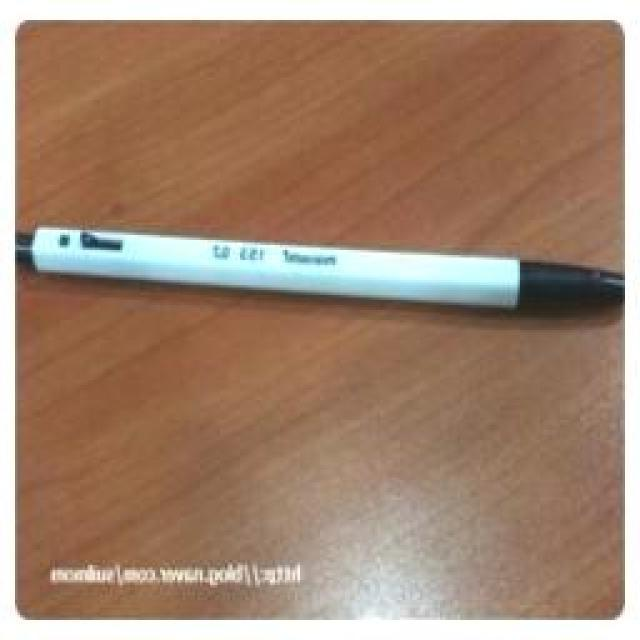pen: (14, 218, 622, 316)
